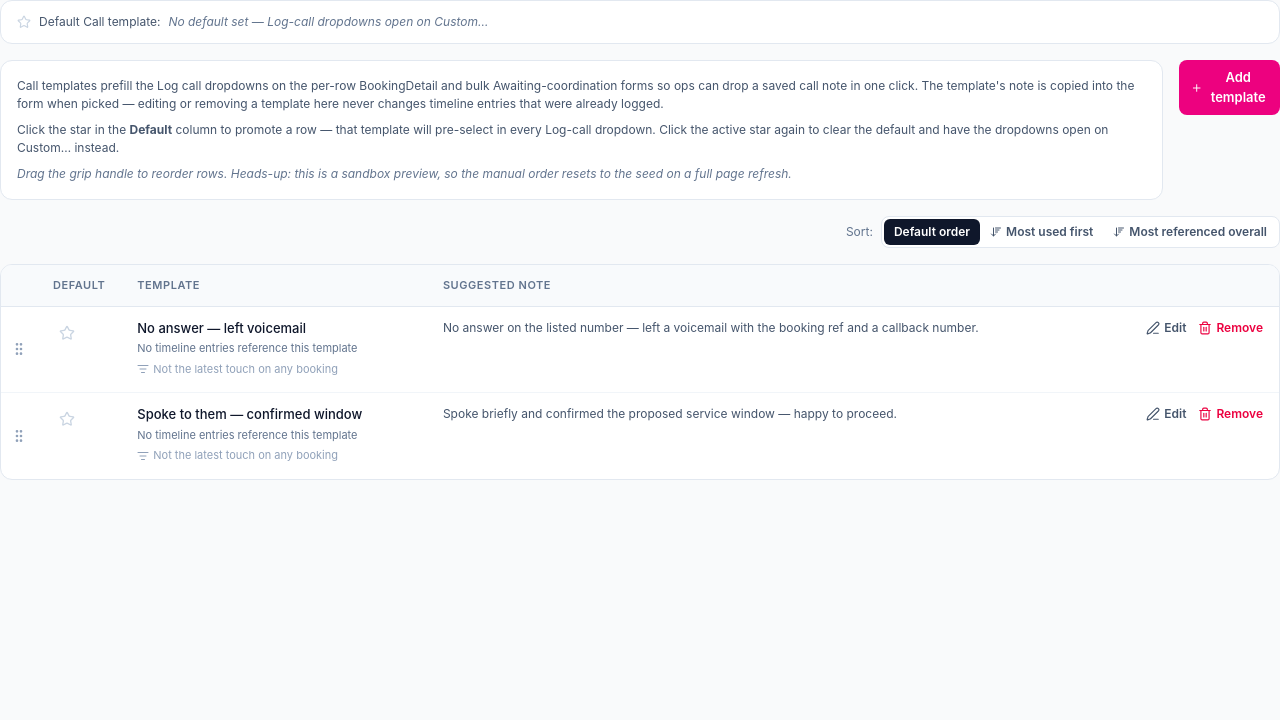
CallTemplatesView · CRUD › Add → Save creates a new row visible in the panel
// Open the editor modal in "create" mode — it starts blank.
Step 1. Click the button with test id "button-add-call-template" → (1230, 88), box [1179, 60, 1279, 115]
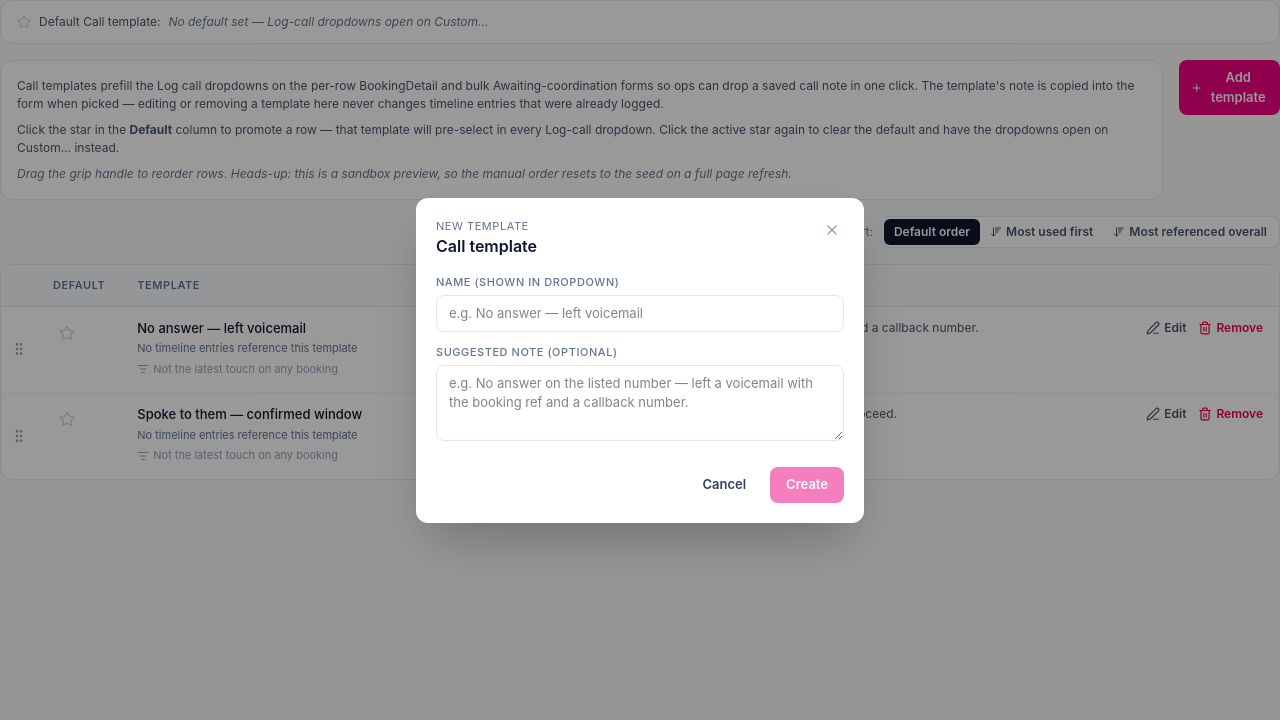
Check: the element with test id "call-template-editor" is shown, box [416, 198, 864, 522]
Step 2. Type "  Wrong number on file  " into the field with test id "input-call-template-name" → (640, 313), box [436, 294, 844, 332]
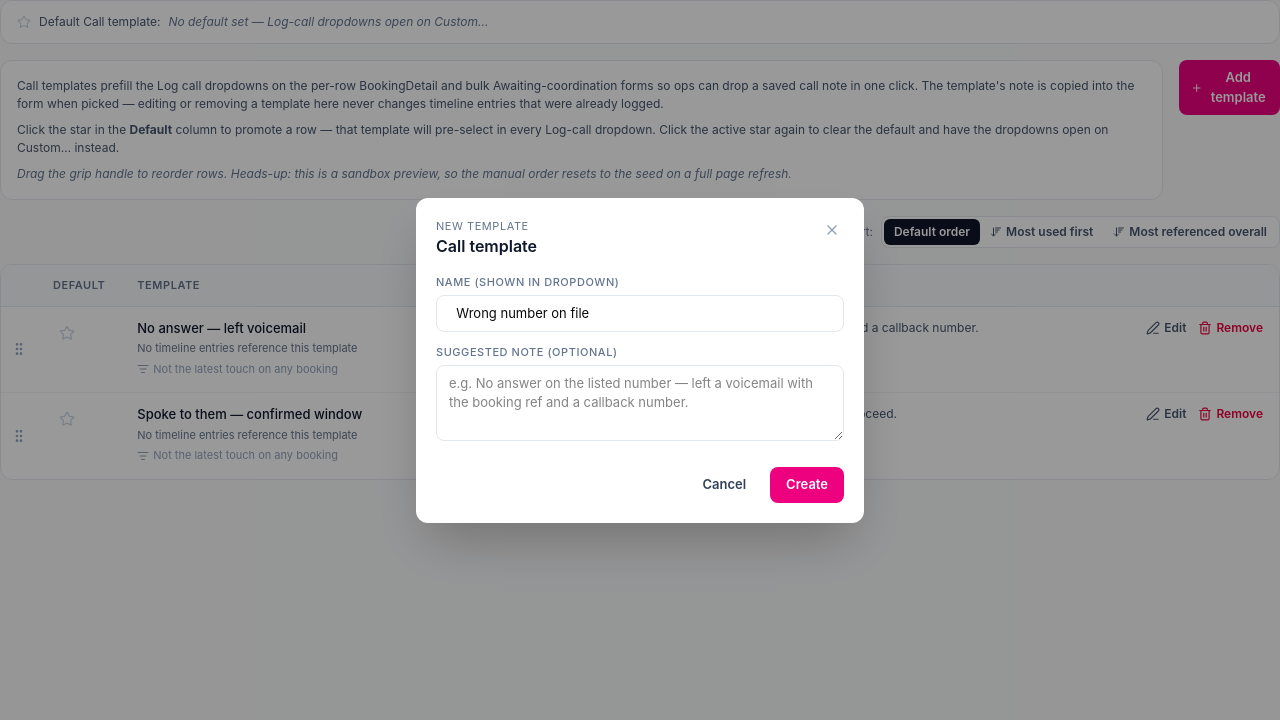
Step 3. Replace the text in the text box with test id "input-call-template-note" with "  Number on file is wrong or disconnected — flag with agent for an updated tenant contact.  " → (640, 403), box [436, 364, 844, 441]
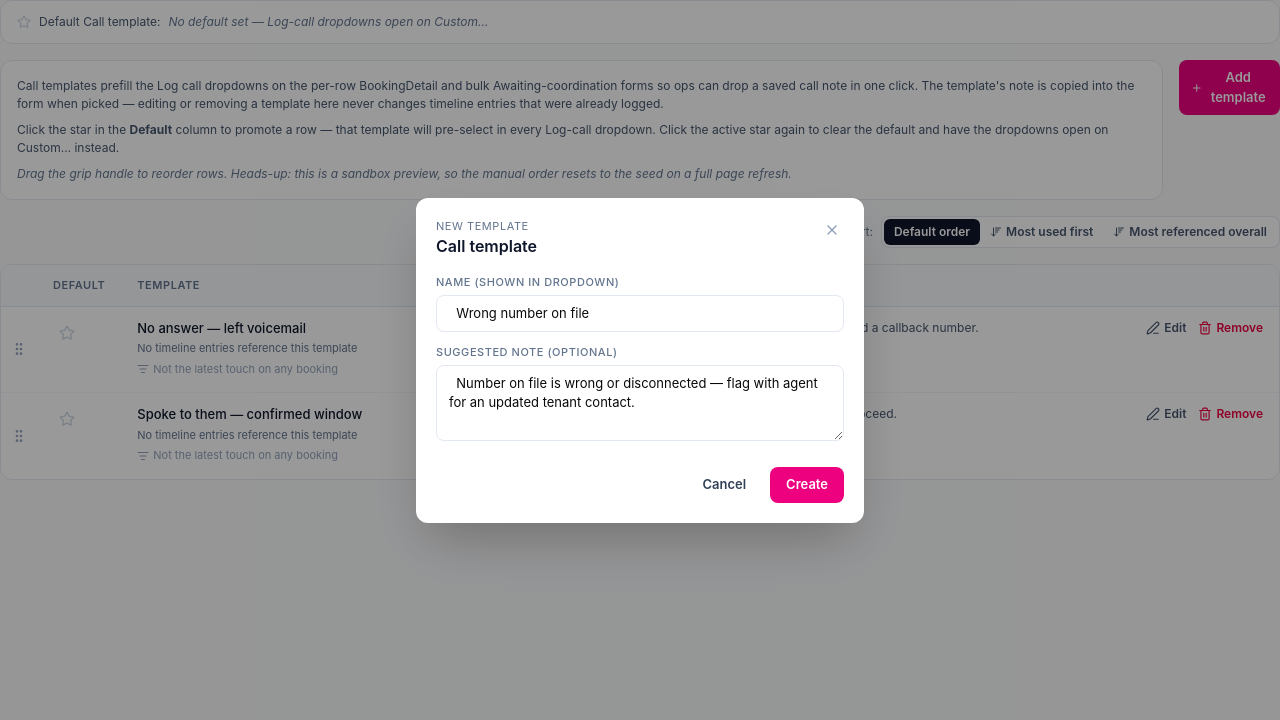
Step 4. Click the button with test id "button-save-call-template" → (807, 485), box [770, 467, 844, 502]
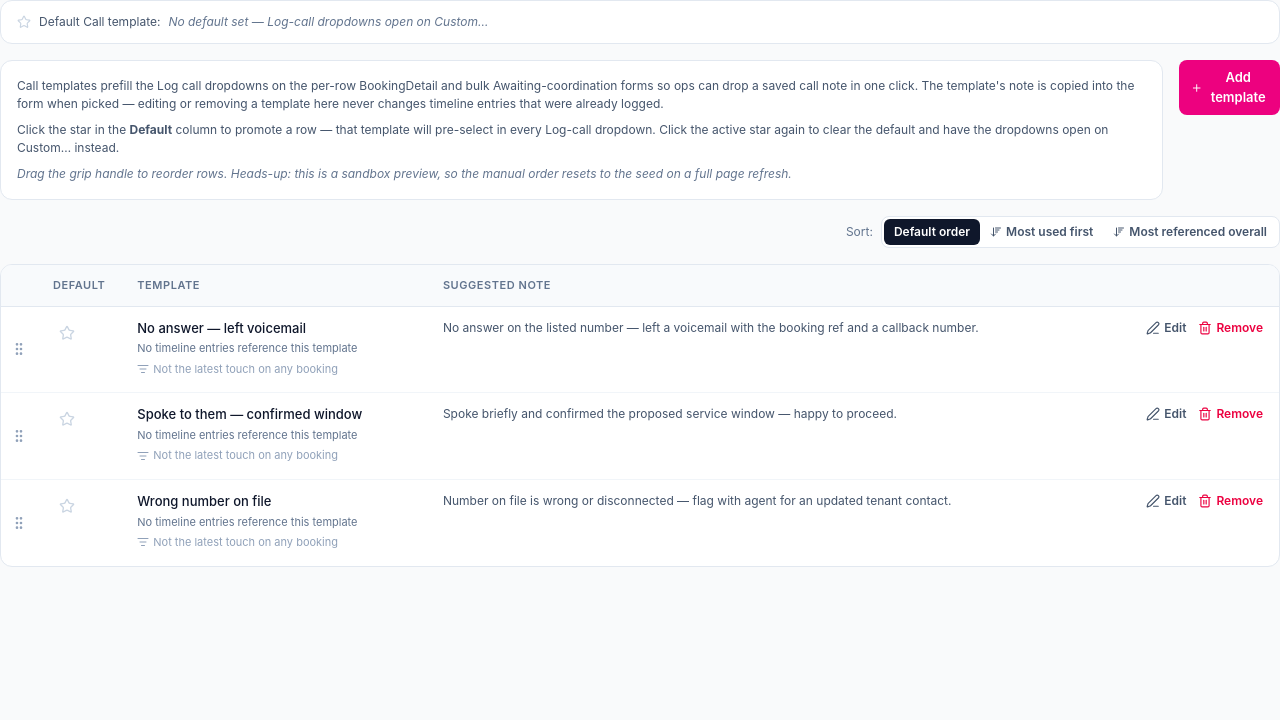
Check: the element with test id "call-template-editor" is gone
Check: the text "Wrong number on file" is shown, box [137, 492, 272, 512]
Check: the text "Number on file is wrong or disconnected — flag with agent for an updated tenant contact." is shown, box [443, 493, 952, 508]
